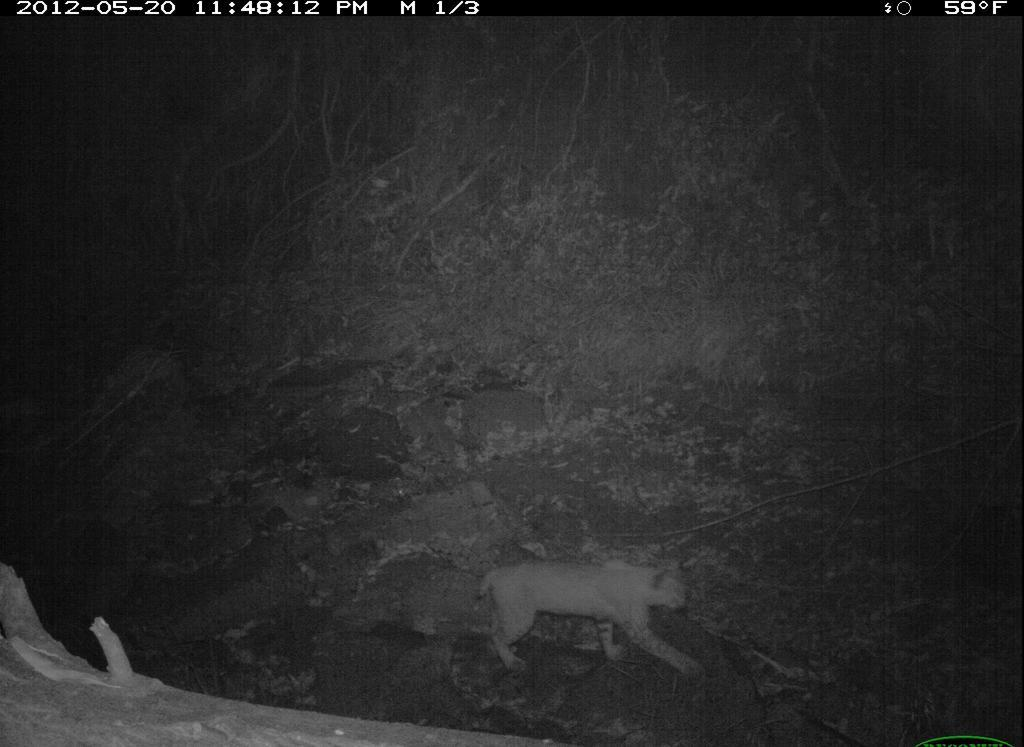bobcat: (470, 539, 711, 687)
